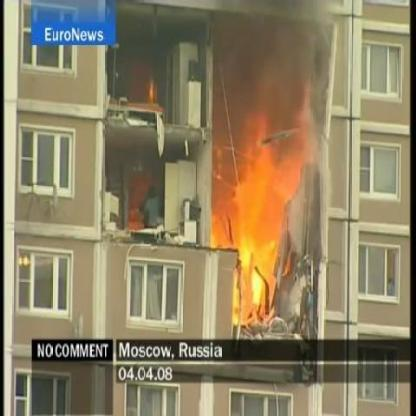fire: (235, 101, 283, 320)
